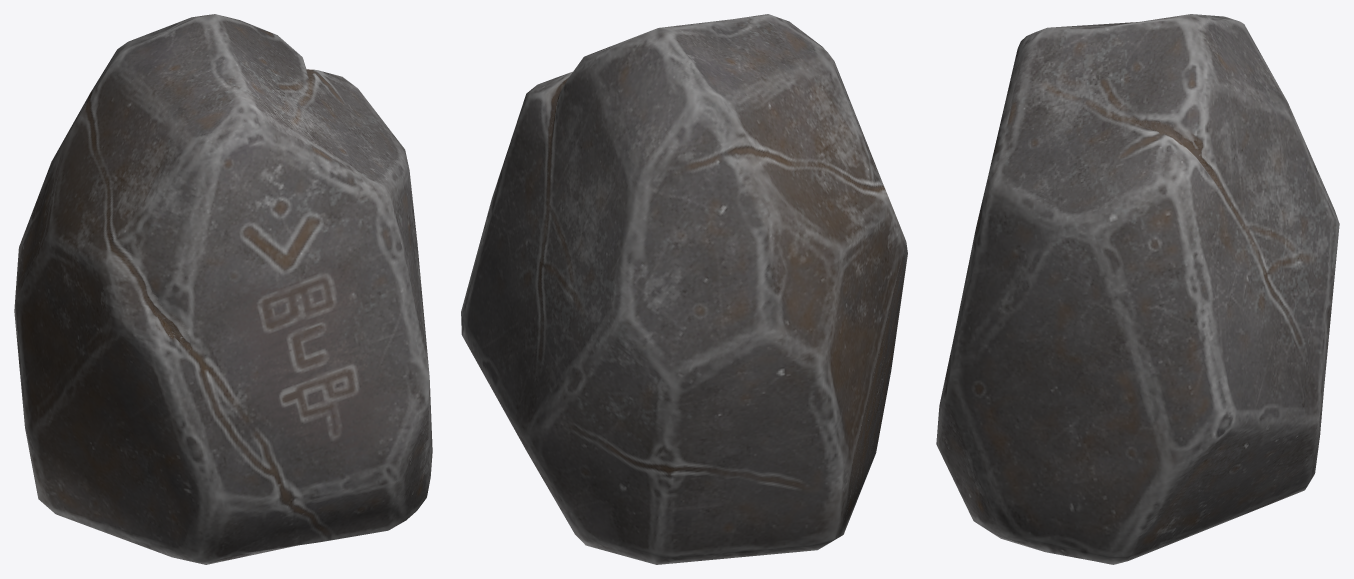
Rendered from ethioston2.glb.
3 views of the same model, side by side, from view 1: azimuth 30°, elevation 25°; view 2: azimuth 150°, elevation 25°; view 3: azimuth 270°, elevation 25° (orthographic). The views are drawn at different scales.
Parts seen in each view (by area): view 1: AncientRuins_Rock3_M_AncientRuins_Rocks_0; view 2: AncientRuins_Rock3_M_AncientRuins_Rocks_0; view 3: AncientRuins_Rock3_M_AncientRuins_Rocks_0.
Part boxes in pixels (left/top/right/bottom): AncientRuins_Rock3_M_AncientRuins_Rocks_0: left=14, top=14, right=432, bottom=564; AncientRuins_Rock3_M_AncientRuins_Rocks_0: left=461, top=14, right=907, bottom=564; AncientRuins_Rock3_M_AncientRuins_Rocks_0: left=936, top=14, right=1339, bottom=564.
Bounding box in the file's own units: 10.06 × 12.01 × 9.34.
1 material, 1 textured.
